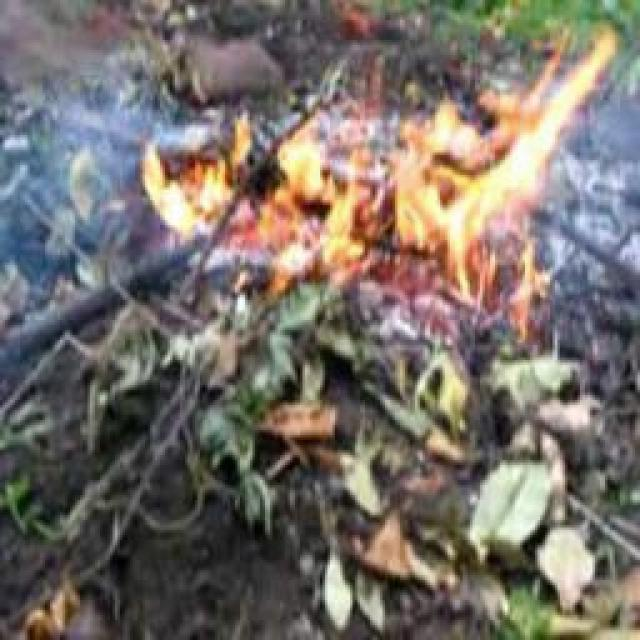Fire: (350, 33, 571, 294), (138, 129, 389, 279)
